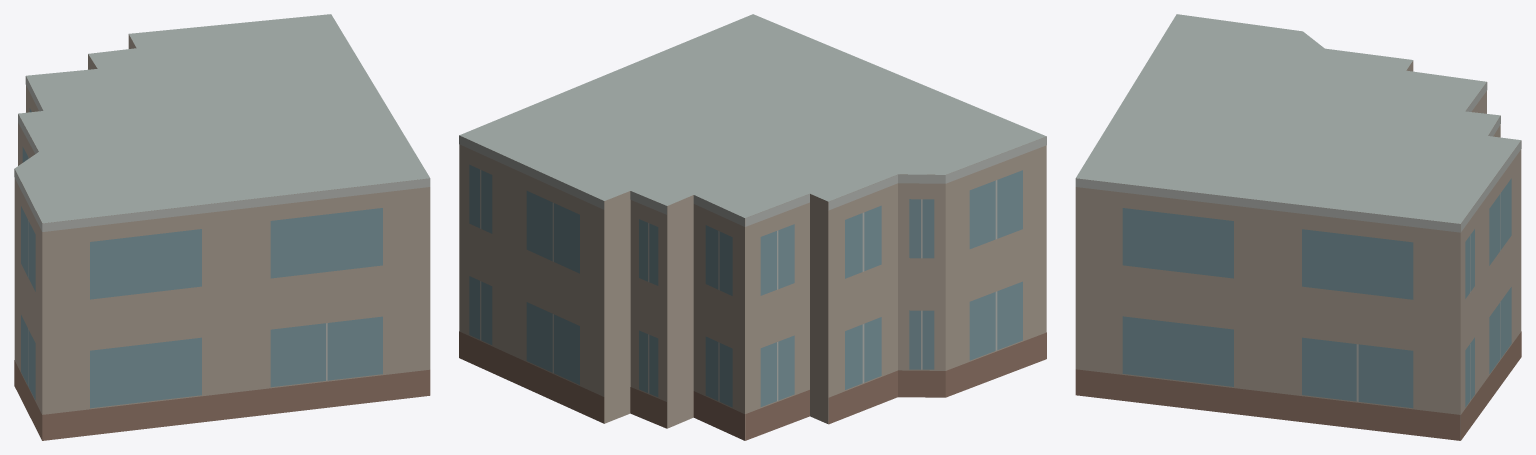
Rendered from survey-upis-32564897.glb.
3 views of the same model, side by side, from view 1: azimuth 30°, elevation 25°; view 2: azimuth 150°, elevation 25°; view 3: azimuth 270°, elevation 25° (orthographic). The views are drawn at different scales.
Visible parts, largest first — view 1: survey-upis-32564897.tmp; view 2: survey-upis-32564897.tmp; view 3: survey-upis-32564897.tmp.
Part boxes in pixels (x1,y1,x2,y2): survey-upis-32564897.tmp: (14, 14, 430, 440); survey-upis-32564897.tmp: (459, 14, 1046, 440); survey-upis-32564897.tmp: (1075, 14, 1521, 440).
Size of the model in its own units: 12.67 by 6.1 by 11.37.
